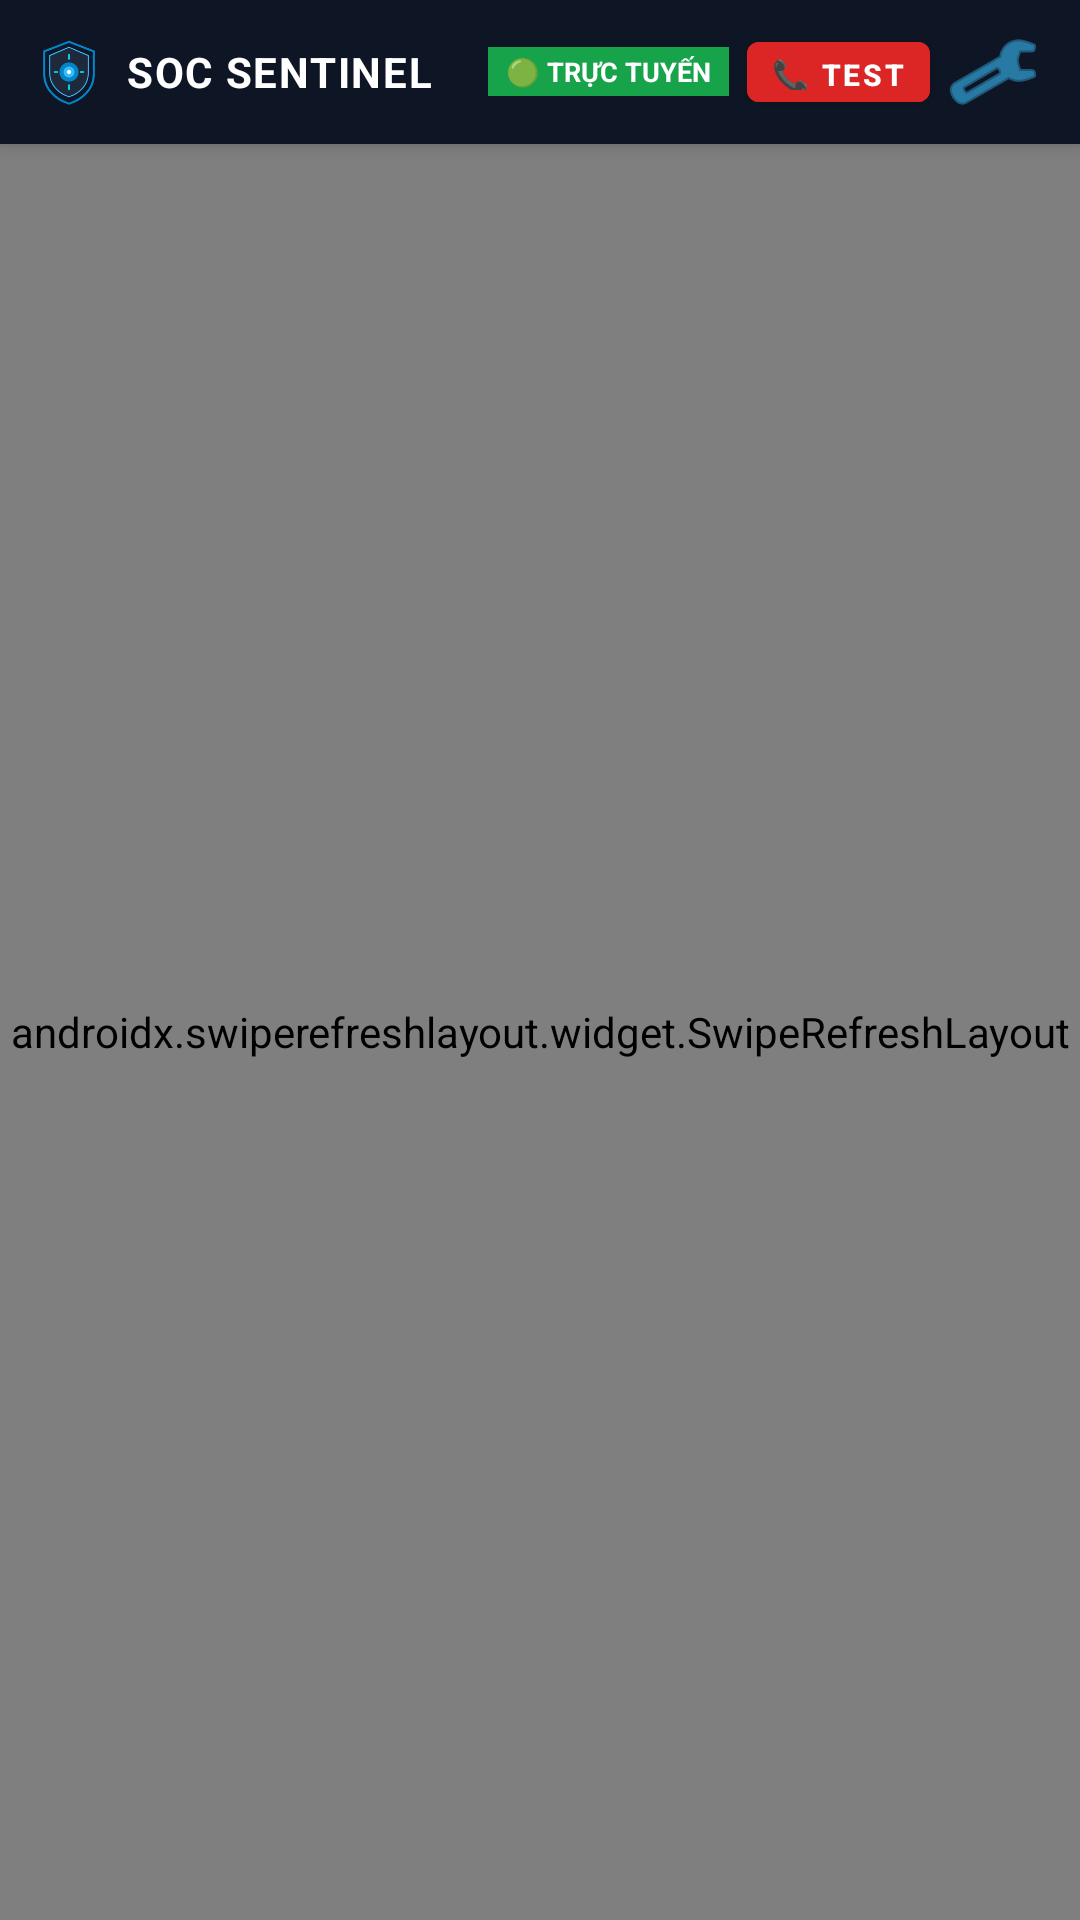

Icons on this 1080x1920 Android screen, each with its box as bbox(x1, y1, x2, y2):
Cài đặt: bbox(950, 39, 1036, 105)
